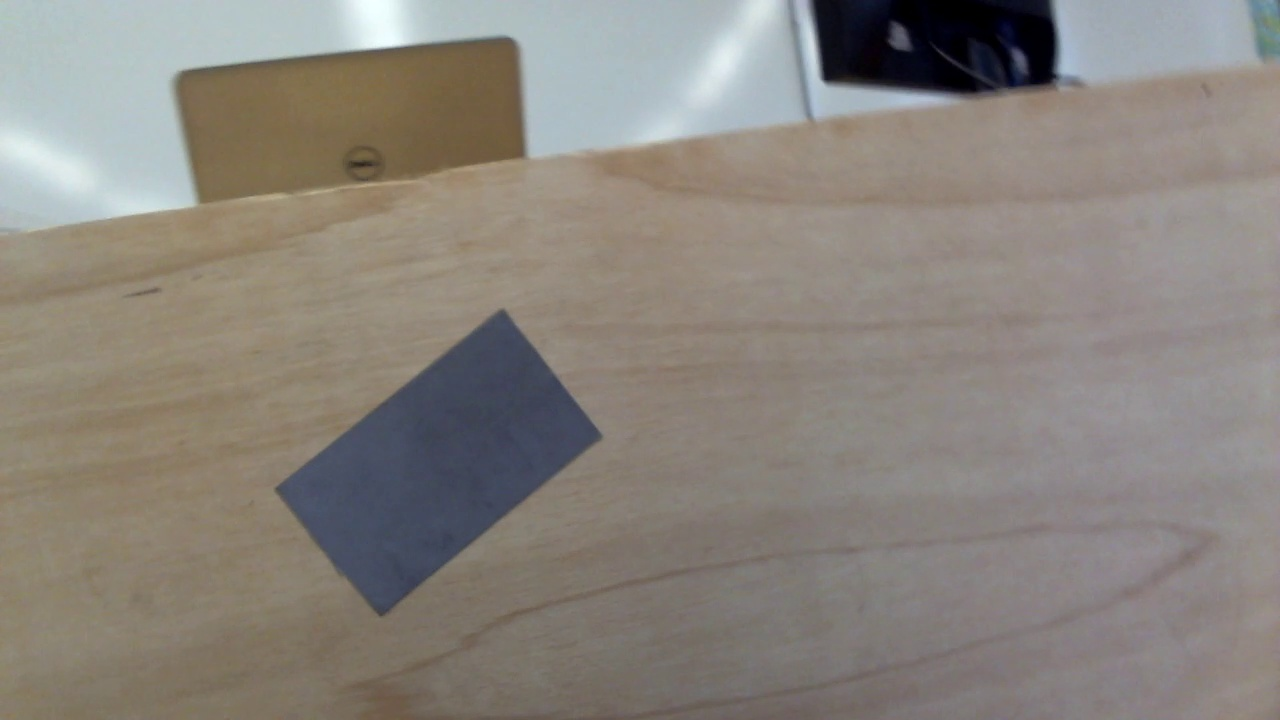Tape: (270, 309, 604, 621)
